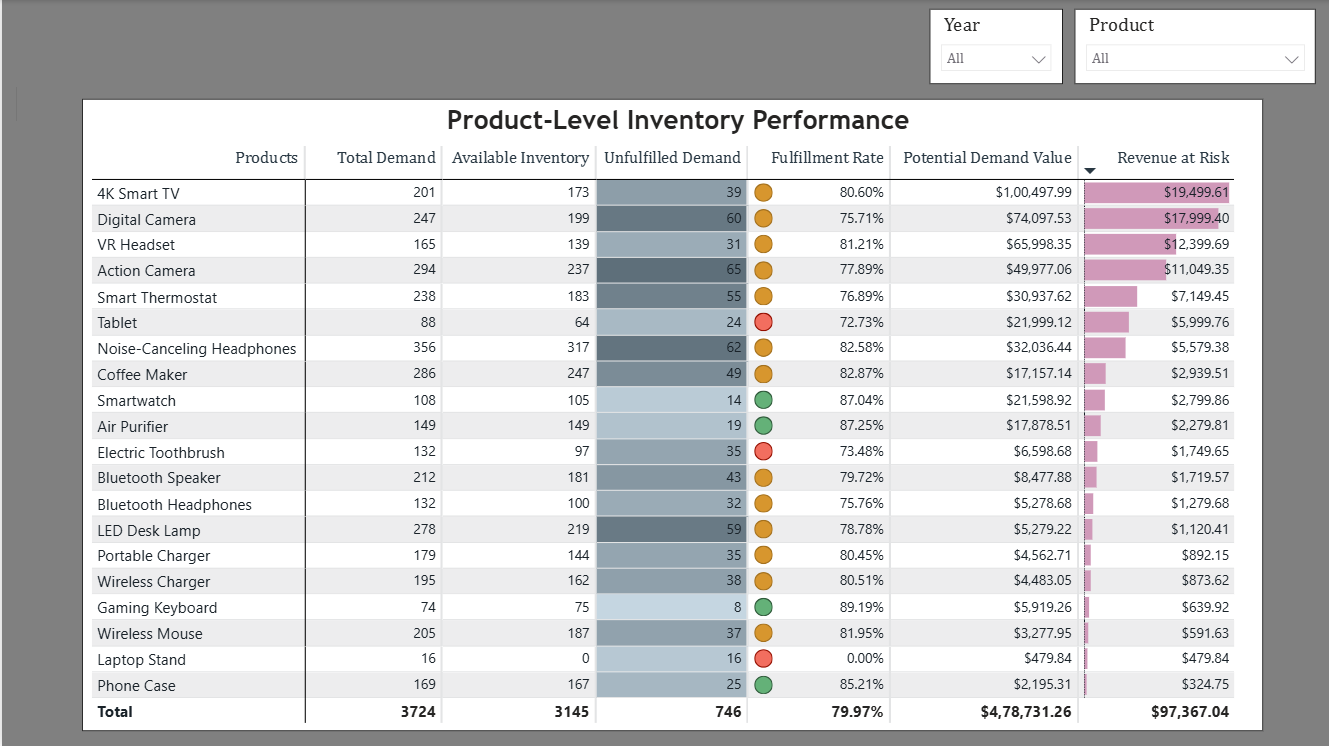

The page's visual inventory and layout, read from the dashboard file:
{"tool":"powerbi","page":{"name":"Product Analysis","canvas":[1280,720],"ordinal":2},"visuals":[{"type":"pivotTable","title":"Product-Level Inventory Performance","fields":{"Rows":["Test Environment Inventory.product_name"],"Values":["Measures Table.Total Demand","Measures Table.Total Available Inventory","Measures Table.Unfulfilled Demand","Measures Table.Demand Fulfillment Rate","Measures Table.Potential Demand Value","Measures Table.Revenue at Risk"]},"box":[77,95,1140.3,610],"z":0},{"type":"slicer","fields":{"Values":["Date Table.Year"]},"box":[894.7,8.9,128.5,72.5],"z":3},{"type":"slicer","fields":{"Values":["Test Environment Inventory.product_name"]},"box":[1034.6,8.9,232.9,72.5],"z":4}]}

Visuals, with their boxes in screenshot pixels (x1, y1, x2, y2), scaled from the page's 1280x720 canvas onto the 1329x746 screenshot:
"Product-Level Inventory Performance" pivotTable: locate(80, 98, 1264, 730)
slicer - Date Table.Year: locate(929, 9, 1062, 84)
slicer - Test Environment Inventory.product_name: locate(1074, 9, 1316, 84)
